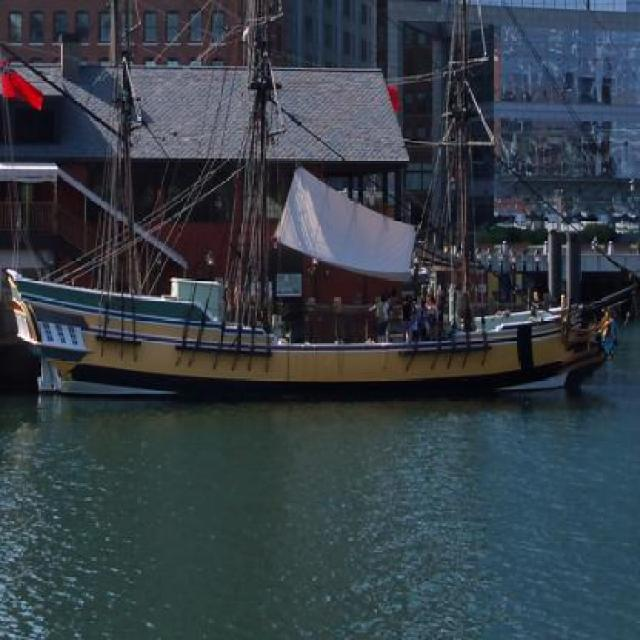ship: (12, 242, 618, 413)
